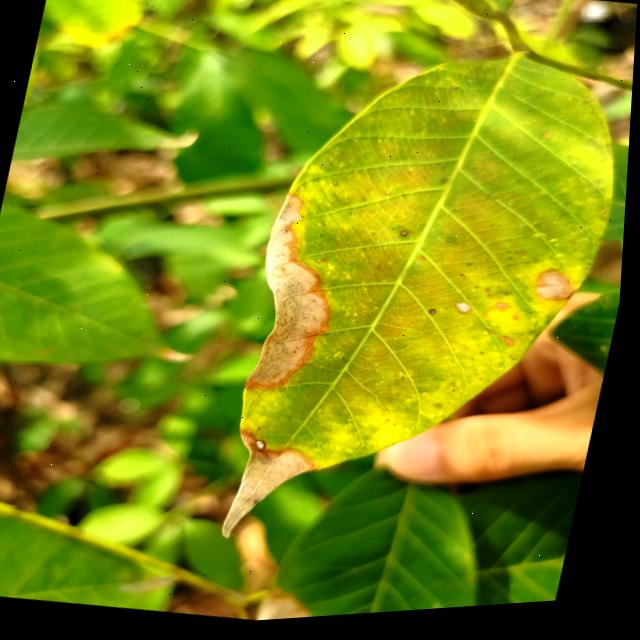Colletotrichum: (432, 314, 441, 322), (403, 236, 412, 243)
Leaf-Blight: (241, 193, 360, 404), (224, 429, 328, 554), (536, 273, 583, 314), (458, 308, 476, 319), (260, 443, 273, 455)
